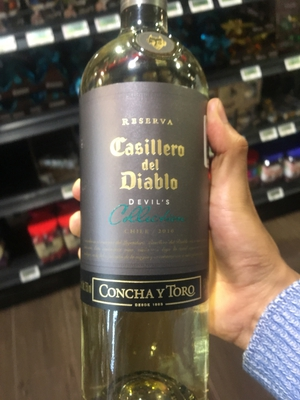casillero del diablo devils collection verde: (61, 15, 235, 400)
